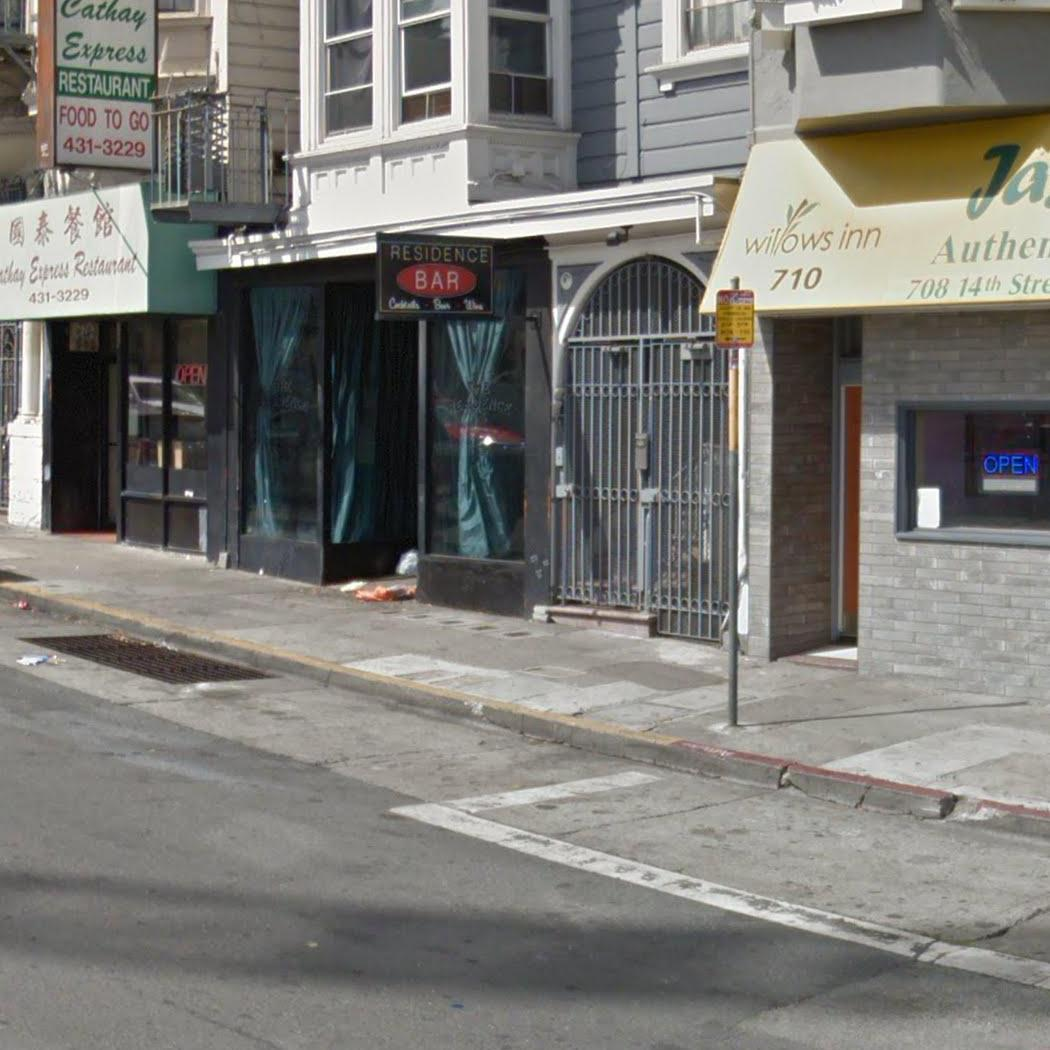No Parking: (713, 288, 756, 350)
